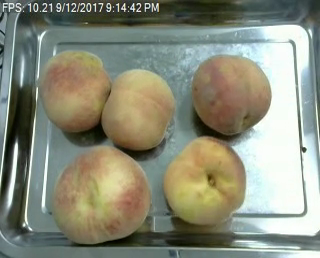Peach: (52, 146, 148, 244), (164, 135, 246, 227), (191, 54, 272, 134), (38, 49, 111, 134), (100, 69, 175, 150)
